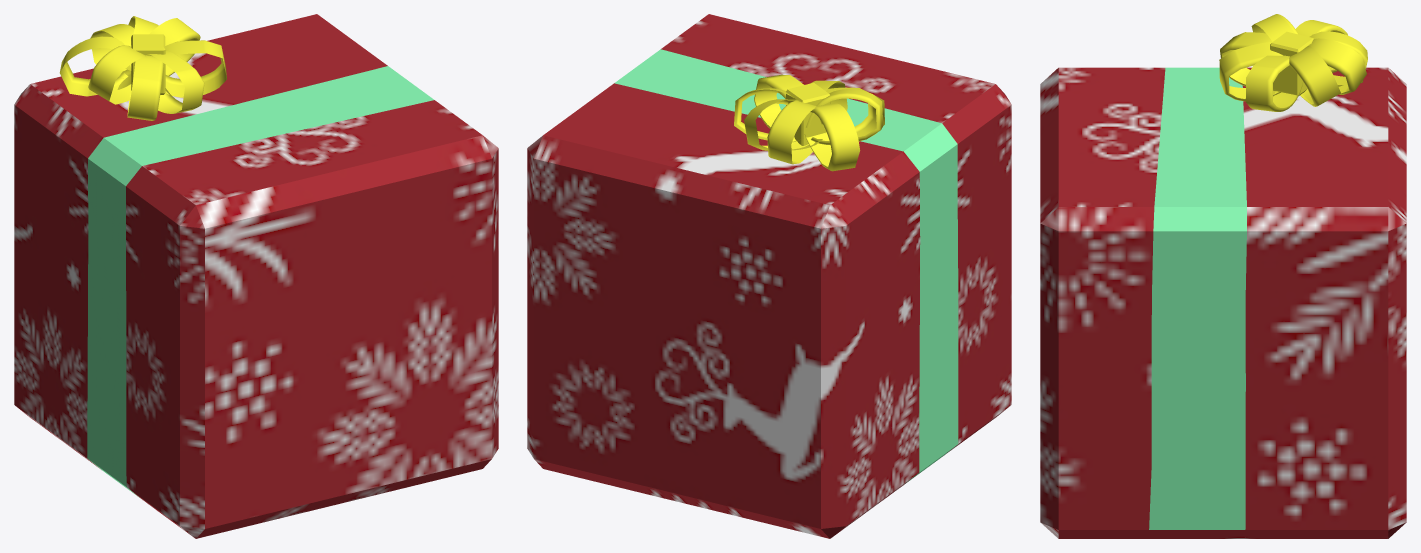
File: Regalo corregido 1.fbx
3 renders of one model, left to right at view 1: azimuth 30°, elevation 25°; view 2: azimuth 150°, elevation 25°; view 3: azimuth 270°, elevation 25°, orthographic.
Parts seen in each view (by area): view 1: Cube.113, BezierCurve.006, BezierCurve.003, BezierCurve.004, BezierCurve.001, BezierCurve, BezierCurve.002, Cube, BezierCurve.005; view 2: Cube.113, BezierCurve, BezierCurve.005, Cube, BezierCurve.001, BezierCurve.006, BezierCurve.007, BezierCurve.003, BezierCurve.002; view 3: Cube.113, BezierCurve.001, BezierCurve.002, BezierCurve.007, BezierCurve.004, Cube, BezierCurve.003, BezierCurve.006, BezierCurve.005, BezierCurve.
Boxes of the visible parts, bbox=[...] form: Cube.113: bbox=[14, 14, 498, 538]; BezierCurve.006: bbox=[88, 45, 146, 104]; BezierCurve.003: bbox=[127, 55, 163, 120]; BezierCurve.004: bbox=[147, 50, 204, 113]; BezierCurve.001: bbox=[165, 40, 226, 97]; BezierCurve: bbox=[59, 36, 131, 96]; BezierCurve.002: bbox=[149, 18, 200, 75]; Cube: bbox=[131, 34, 165, 94]; BezierCurve.005: bbox=[90, 24, 134, 67]; Cube.113: bbox=[527, 14, 1011, 538]; BezierCurve: bbox=[804, 103, 860, 171]; BezierCurve.005: bbox=[767, 100, 826, 164]; Cube: bbox=[786, 83, 830, 145]; BezierCurve.001: bbox=[754, 74, 803, 128]; BezierCurve.006: bbox=[806, 89, 883, 144]; BezierCurve.007: bbox=[744, 99, 822, 150]; BezierCurve.003: bbox=[826, 87, 884, 141]; BezierCurve.002: bbox=[734, 88, 810, 142]; Cube.113: bbox=[1040, 67, 1406, 538]; BezierCurve.001: bbox=[1245, 55, 1303, 111]; BezierCurve.002: bbox=[1289, 46, 1340, 106]; BezierCurve.007: bbox=[1310, 38, 1366, 94]; BezierCurve.004: bbox=[1219, 41, 1282, 101]; Cube: bbox=[1270, 31, 1313, 96]; BezierCurve.003: bbox=[1220, 32, 1271, 86]; BezierCurve.006: bbox=[1251, 14, 1298, 41]; BezierCurve.005: bbox=[1309, 31, 1367, 86]; BezierCurve: bbox=[1295, 20, 1347, 72].
Bounding box in the file's own units: 89.95 × 108 × 89.95.
3 materials, 1 textured.
